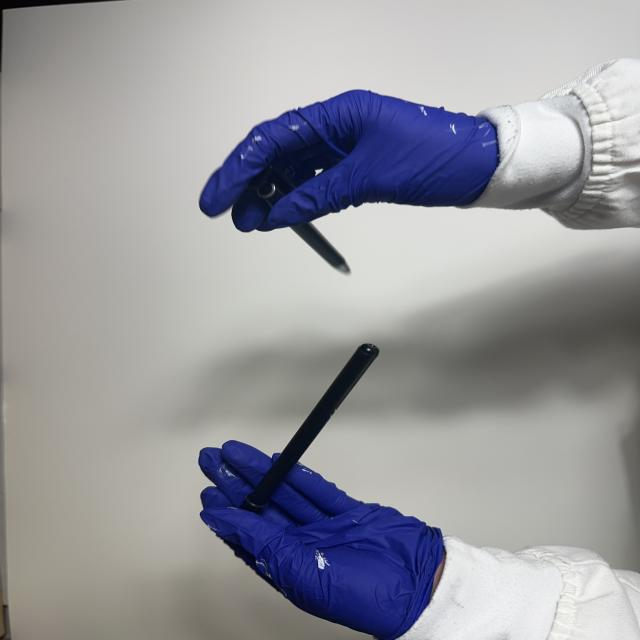gloves_contaminated: (199, 442, 444, 640), (201, 90, 498, 232)
